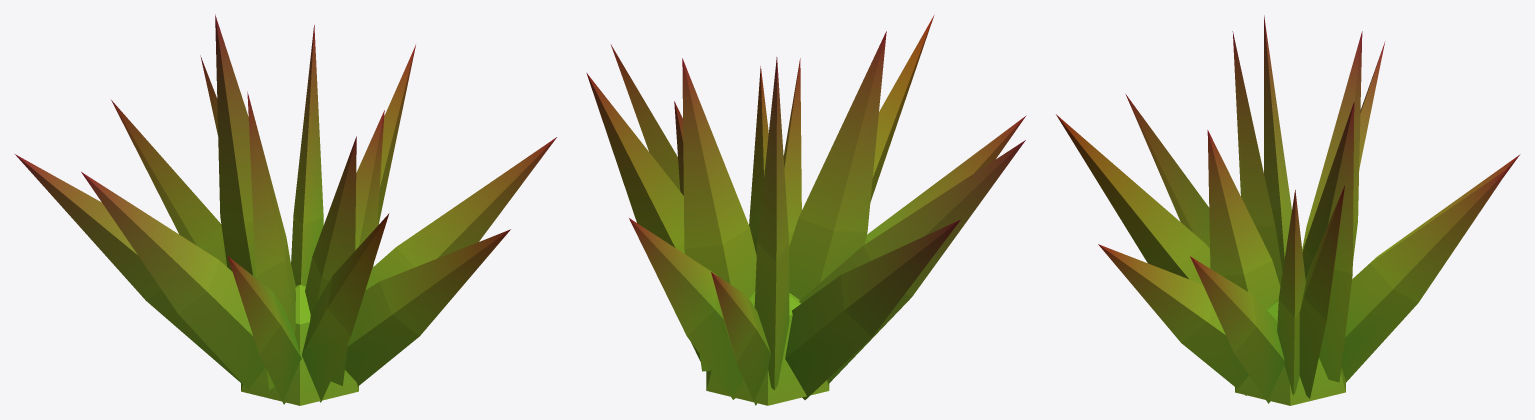
The model's file is Desert_Agave_01.fbx.
3 renders of one model, left to right at view 1: azimuth 30°, elevation 25°; view 2: azimuth 150°, elevation 25°; view 3: azimuth 270°, elevation 25°, orthographic. The views are drawn at different scales.
Visible parts, largest first — view 1: Desert_Agave_01; view 2: Desert_Agave_01; view 3: Desert_Agave_01.
Boxes of the visible parts, bbox=[...] form: Desert_Agave_01: bbox=[15, 14, 556, 405]; Desert_Agave_01: bbox=[586, 15, 1026, 405]; Desert_Agave_01: bbox=[1056, 15, 1520, 405].
Bounding box in the file's own units: 0.8952 × 0.6867 × 0.8697.
